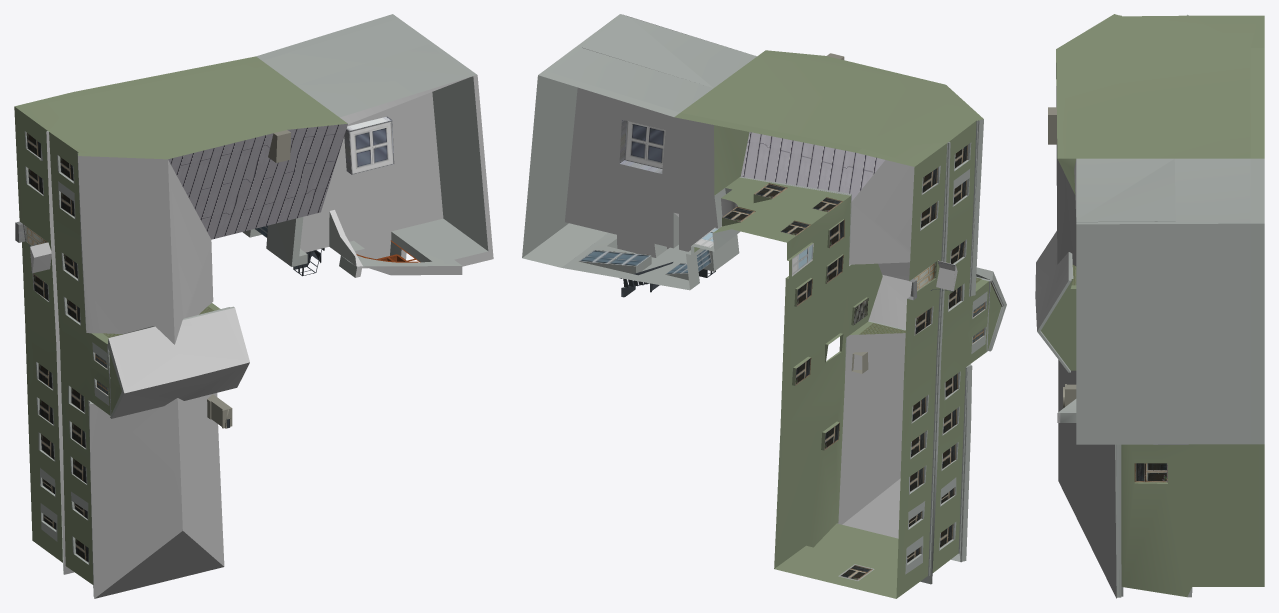
File: Aia_22-origo.obj
3 views of the same model, side by side, from view 1: azimuth 30°, elevation 25°; view 2: azimuth 150°, elevation 25°; view 3: azimuth 270°, elevation 25° (orthographic). The views are drawn at different scales.
Parts seen in each view (by area): view 1: Aia22; view 2: Aia22; view 3: Aia22.
Part boxes in pixels (x1,y1,x2,y2): Aia22: [14, 14, 493, 598]; Aia22: [522, 14, 1006, 598]; Aia22: [1035, 14, 1264, 598].
Size of the model in its own units: 23.88 by 25 by 10.31.
